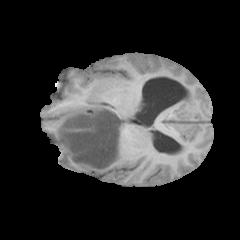glioma: (53, 102, 127, 173)
